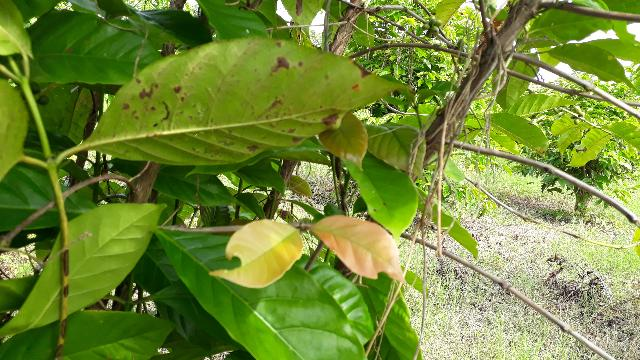red_spider_mite: (92, 38, 411, 164)
